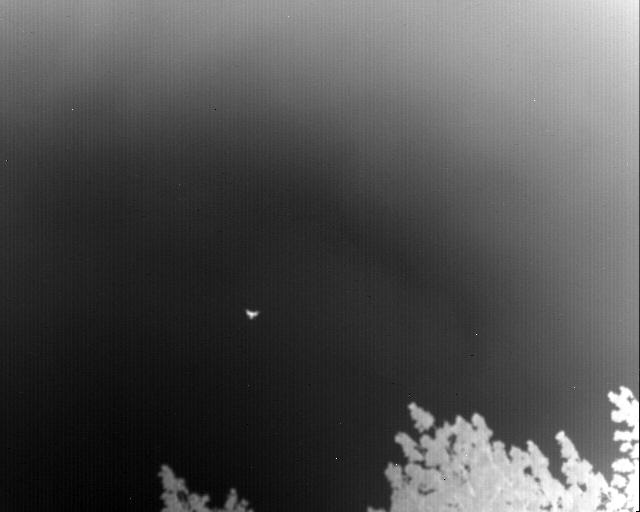plane: (246, 310, 259, 320)
